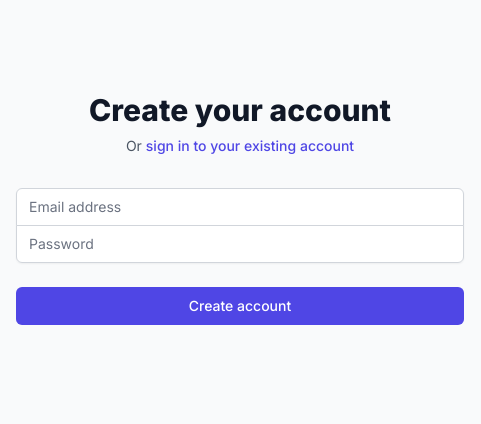
it: Password Strength Indicator › shows correct strength for strong password
The image size is (481, 424).
In the password field labelled "Password": x=240, y=244 [16,224,464,262], type "Password123!"
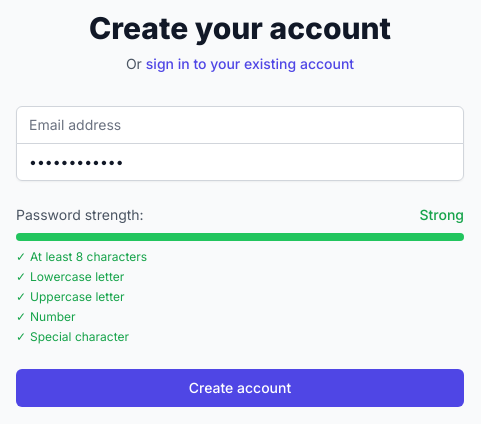
Check: the text "Strong" is shown, box [420,204,464,224]
